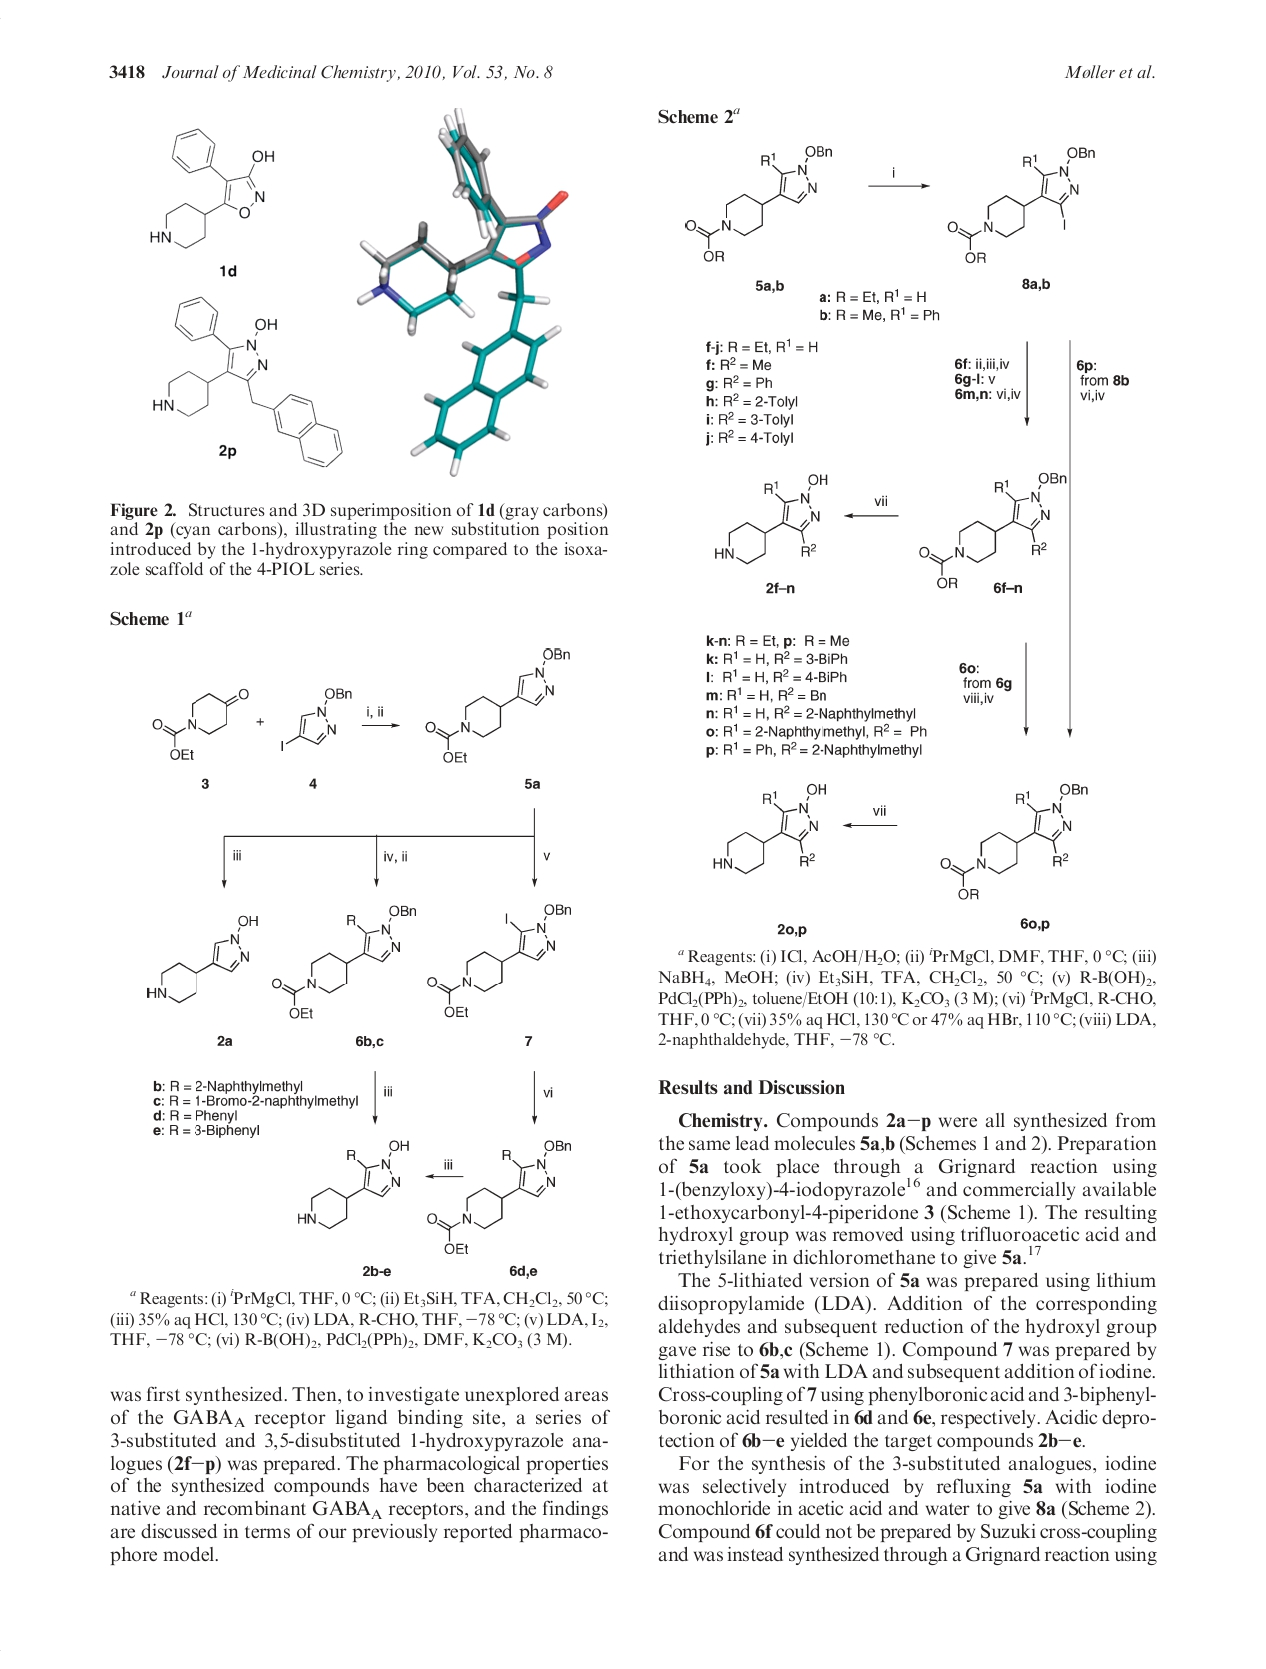exist_molecular: (144, 293, 344, 469), (944, 136, 1097, 269), (939, 777, 1094, 906), (423, 1130, 577, 1255), (422, 638, 570, 767), (682, 141, 832, 267), (423, 896, 564, 1025), (914, 469, 1064, 589), (269, 900, 418, 1019), (149, 122, 278, 253), (709, 465, 836, 567), (707, 779, 832, 876), (144, 908, 263, 1007), (290, 1138, 414, 1231), (148, 680, 259, 769), (278, 681, 359, 758)
